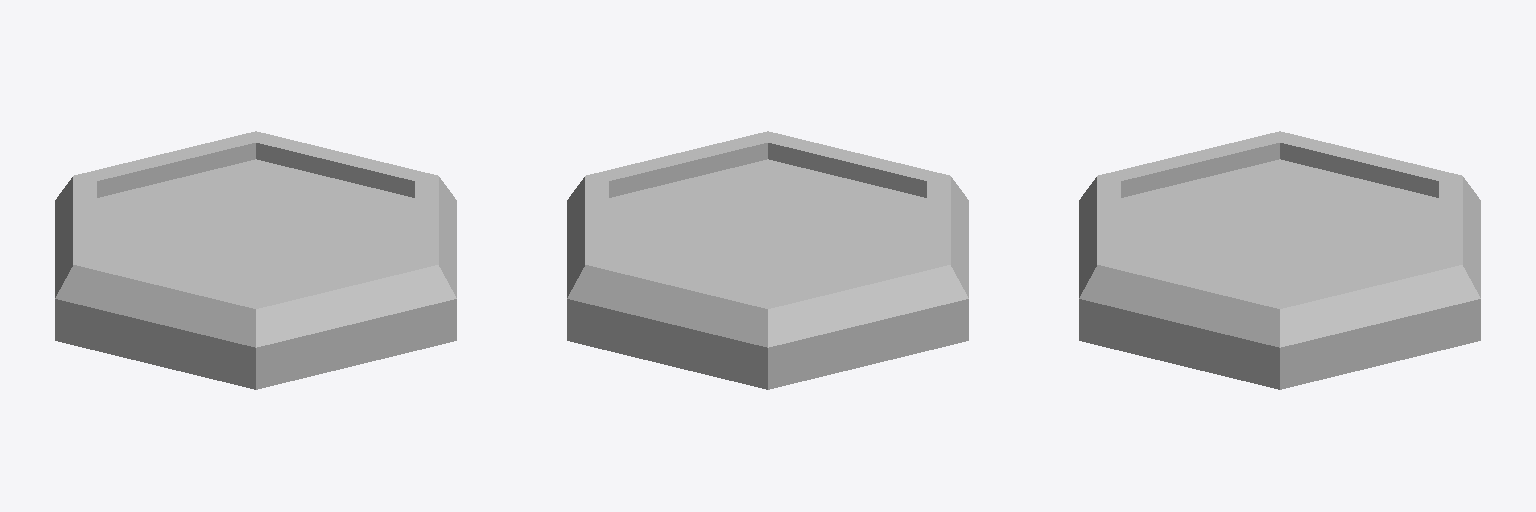
File: BasicHexTile.obj
The picture shows the model from 3 angles: view 1: azimuth 30°, elevation 25°; view 2: azimuth 150°, elevation 25°; view 3: azimuth 270°, elevation 25°; orthographic projection.
Parts seen in each view (by area): view 1: BasicHexTile.obj; view 2: BasicHexTile.obj; view 3: BasicHexTile.obj.
Boxes of the visible parts, x1,y1,x2,y2 form: BasicHexTile.obj: [55, 131, 456, 389]; BasicHexTile.obj: [567, 131, 968, 389]; BasicHexTile.obj: [1079, 131, 1480, 389].
Bounding box in the file's own units: 2 × 0.34 × 1.73.